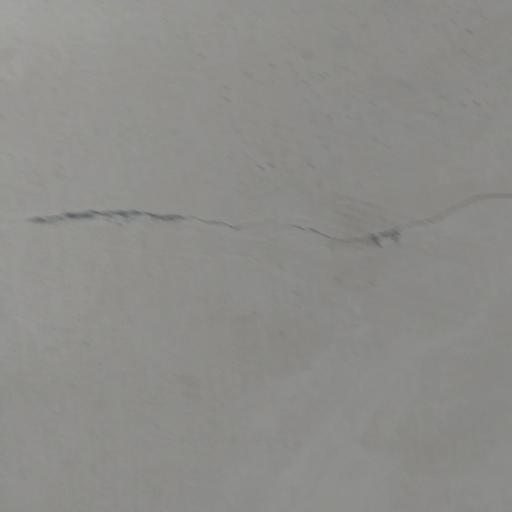minor_crack: (26, 177, 512, 303)
